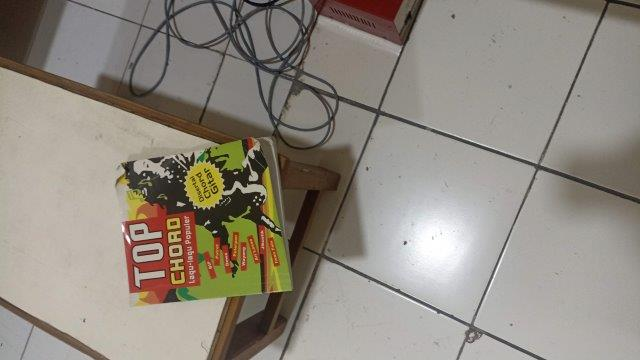kertas: (112, 138, 296, 307)
